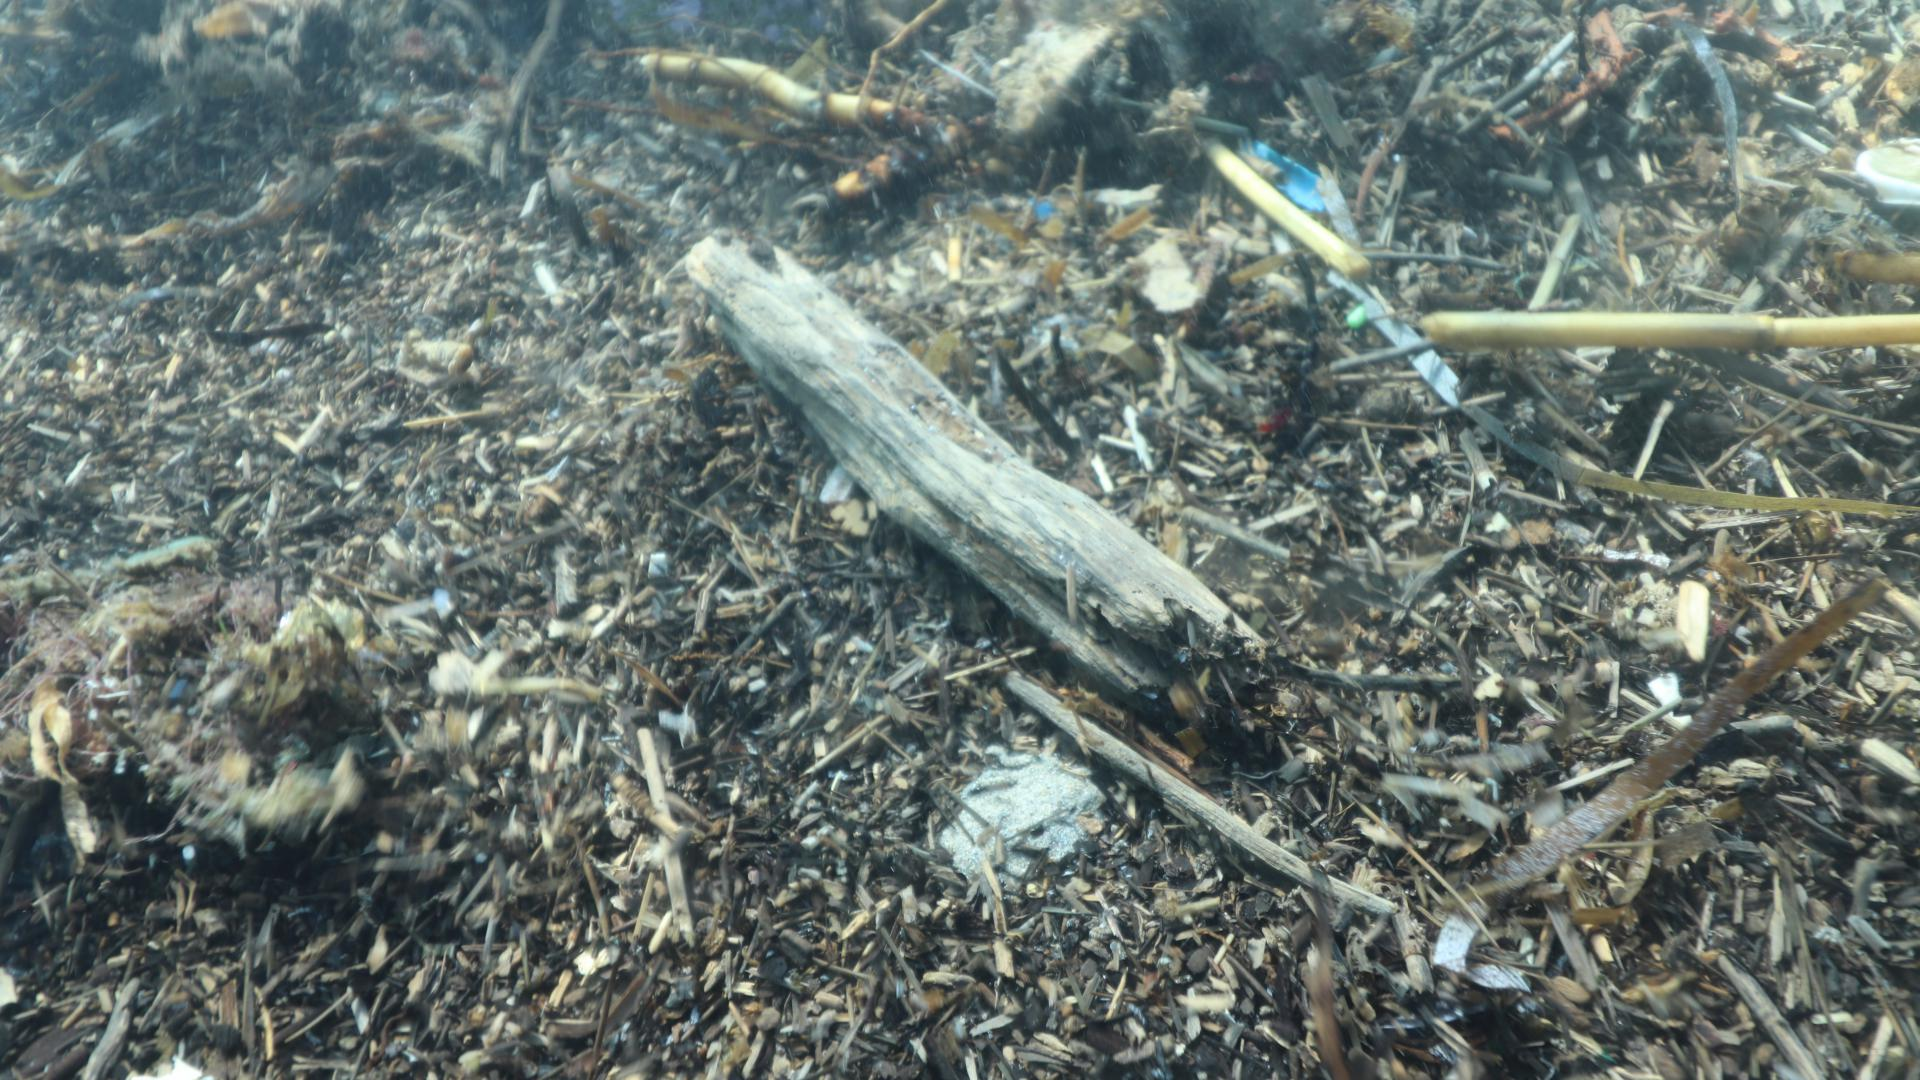wood: (683, 225, 1271, 698)
